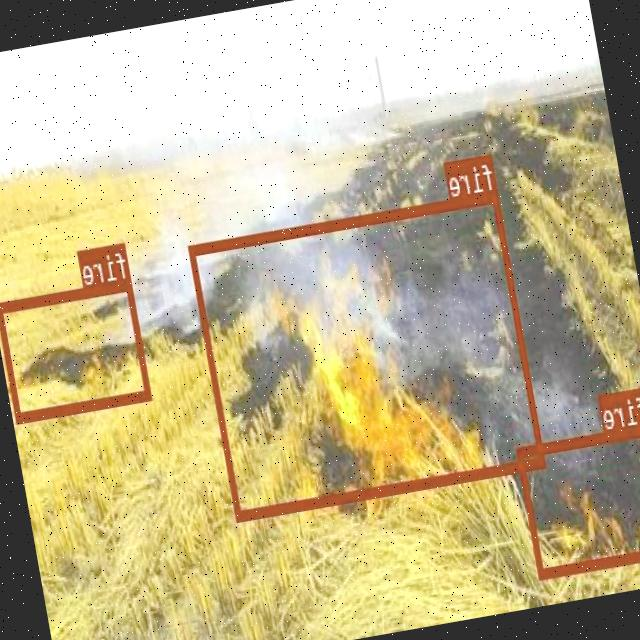fire: (188, 190, 546, 520), (0, 278, 152, 420), (517, 422, 640, 576)
